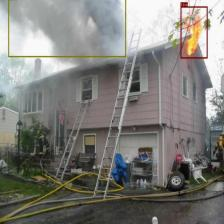fire: (181, 6, 208, 58)
smoke: (7, 0, 126, 57)
